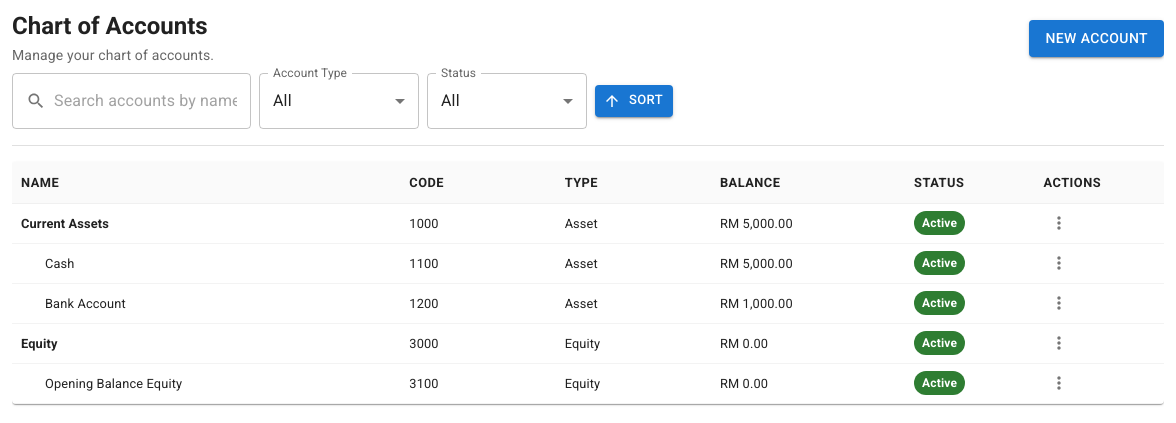
Test: ChartOfAccountsPage › leaf row shows Edit + Set Inactive actions
This screenshot has width=1176, height=423.
Click the button named "row actions" in the row of "Cash" at x=1058, y=263, box [1044,248,1074,278]
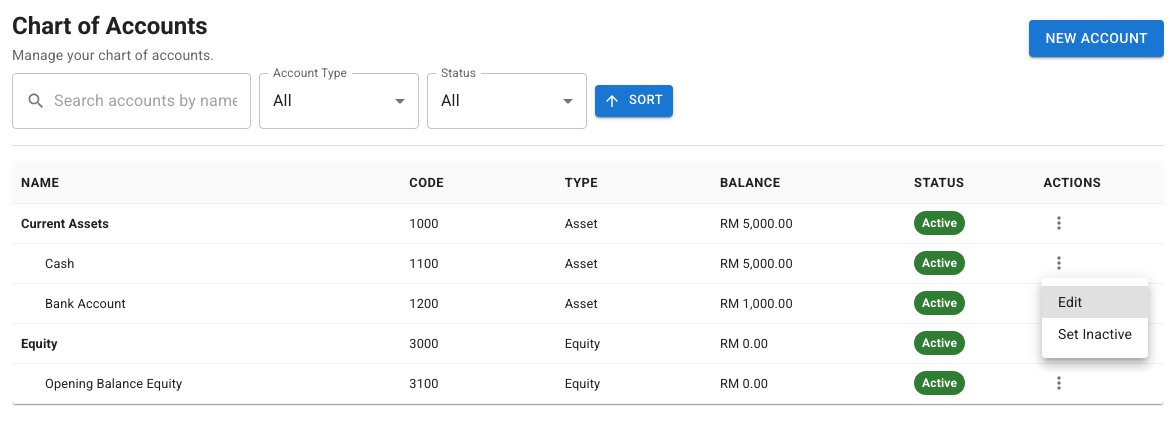
Expected: the menu item "Edit" is shown, [1042,286,1148,318]
Expected: the menu item "Set Inactive" is shown, [1058,326,1132,342]
